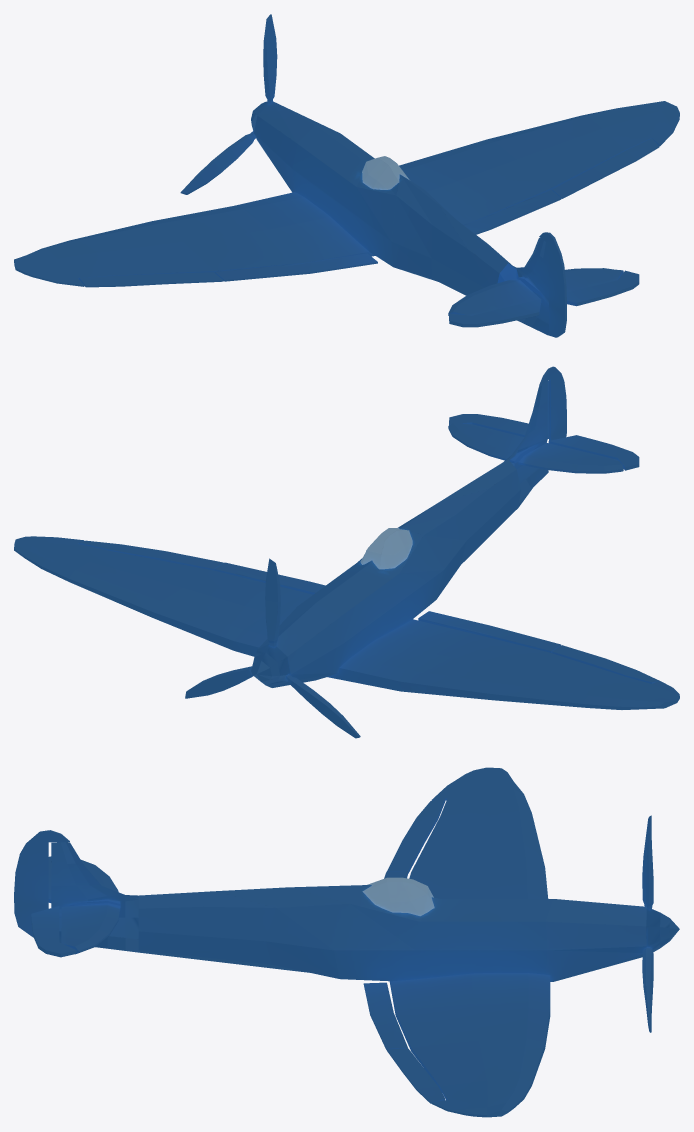
3 views of the same model, one above another, from view 1: azimuth 30°, elevation 25°; view 2: azimuth 150°, elevation 25°; view 3: azimuth 270°, elevation 25° (orthographic). The views are drawn at different scales.
Parts seen in each view (by area): view 1: wing, body, Flap, aileron, stabilizer, elevator, Vertical_stabilizer, rubber, blade_2, cabin, blade_3; view 2: wing, body, stabilizer, Flap, aileron, elevator, Vertical_stabilizer, cabin, rubber, cap, blade_3, blade_2 (+1 smaller); view 3: body, wing, Vertical_stabilizer, rubber, aileron, stabilizer, cabin, Flap, elevator, cap, blade_3, blade.
Part boxes in pixels (left/top/right/bottom): wing: left=14, top=101, right=679, bottom=286; body: left=254, top=101, right=516, bottom=295; Flap: left=214, top=190, right=561, bottom=281; aileron: left=79, top=138, right=659, bottom=287; stabilizer: left=448, top=268, right=623, bottom=315; elevator: left=449, top=270, right=639, bottom=327; Vertical_stabilizer: left=497, top=238, right=548, bottom=335; rubber: left=539, top=232, right=566, bottom=337; blade_2: left=180, top=131, right=255, bottom=194; cabin: left=362, top=156, right=409, bottom=189; blade_3: left=263, top=14, right=277, bottom=104; wing: left=14, top=536, right=679, bottom=709; body: left=258, top=459, right=520, bottom=687; stabilizer: left=448, top=423, right=623, bottom=473; Flap: left=214, top=562, right=561, bottom=652; aileron: left=79, top=540, right=659, bottom=683; elevator: left=449, top=414, right=639, bottom=470; Vertical_stabilizer: left=504, top=381, right=549, bottom=506; cabin: left=360, top=528, right=412, bottom=569; rubber: left=539, top=366, right=566, bottom=440; cap: left=251, top=644, right=290, bottom=687; blade_3: left=265, top=558, right=280, bottom=647; blade_2: left=286, top=674, right=360, bottom=738; body: left=138, top=885, right=646, bottom=981; wing: left=389, top=767, right=550, bottom=1117; Vertical_stabilizer: left=51, top=842, right=138, bottom=952; rubber: left=14, top=830, right=69, bottom=937; aileron: left=387, top=798, right=445, bottom=1103; stabilizer: left=61, top=860, right=120, bottom=954; cabin: left=362, top=877, right=434, bottom=916; Flap: left=363, top=871, right=407, bottom=1050; elevator: left=31, top=856, right=76, bottom=957; cap: left=646, top=908, right=679, bottom=952; blade_3: left=642, top=815, right=653, bottom=909; blade: left=642, top=947, right=653, bottom=1032.
Bounding box in the file's own units: 1168 × 271 × 946.
